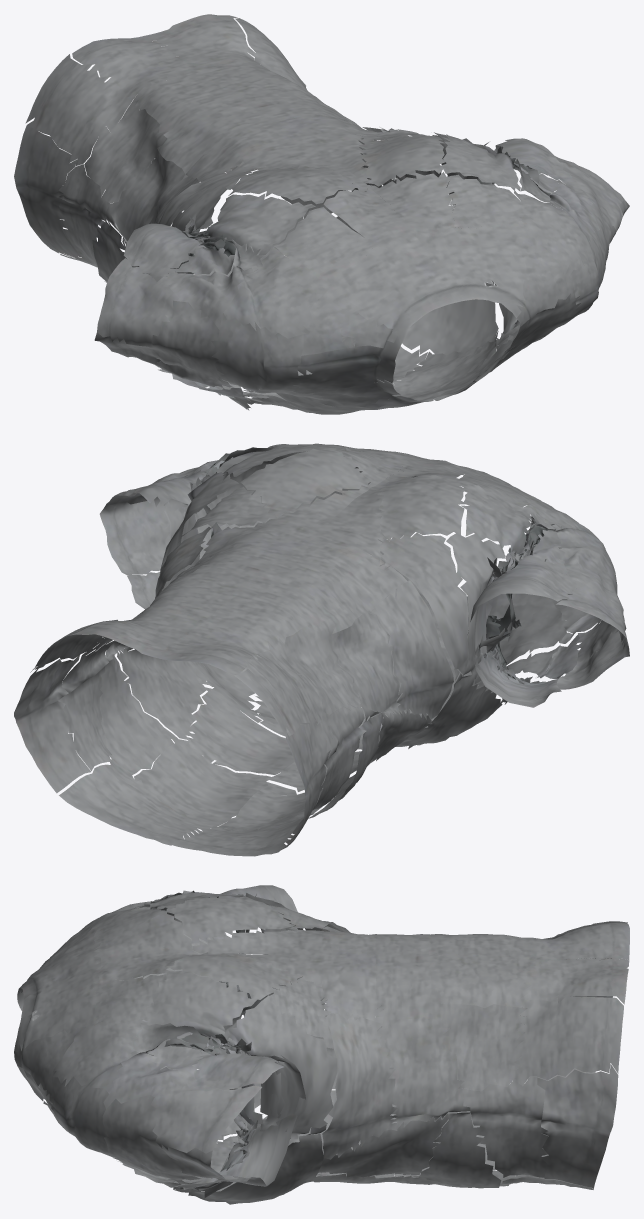
The model's file is adult-base-01.glb.
The picture shows the model from 3 angles, top to bottom: view 1: azimuth 30°, elevation 25°; view 2: azimuth 150°, elevation 25°; view 3: azimuth 270°, elevation 25°; orthographic projection. The views are drawn at different scales.
Parts seen in each view (by area): view 1: geometry_0; view 2: geometry_0; view 3: geometry_0.
Boxes of the visible parts, <box> form: geometry_0: <box>14,14,629,414</box>; geometry_0: <box>14,443,629,856</box>; geometry_0: <box>14,885,629,1204</box>.
Bounding box in the file's own units: 0.00663 × 0.00287 × 0.00681.
Materials: 1 (1 with a texture image).
